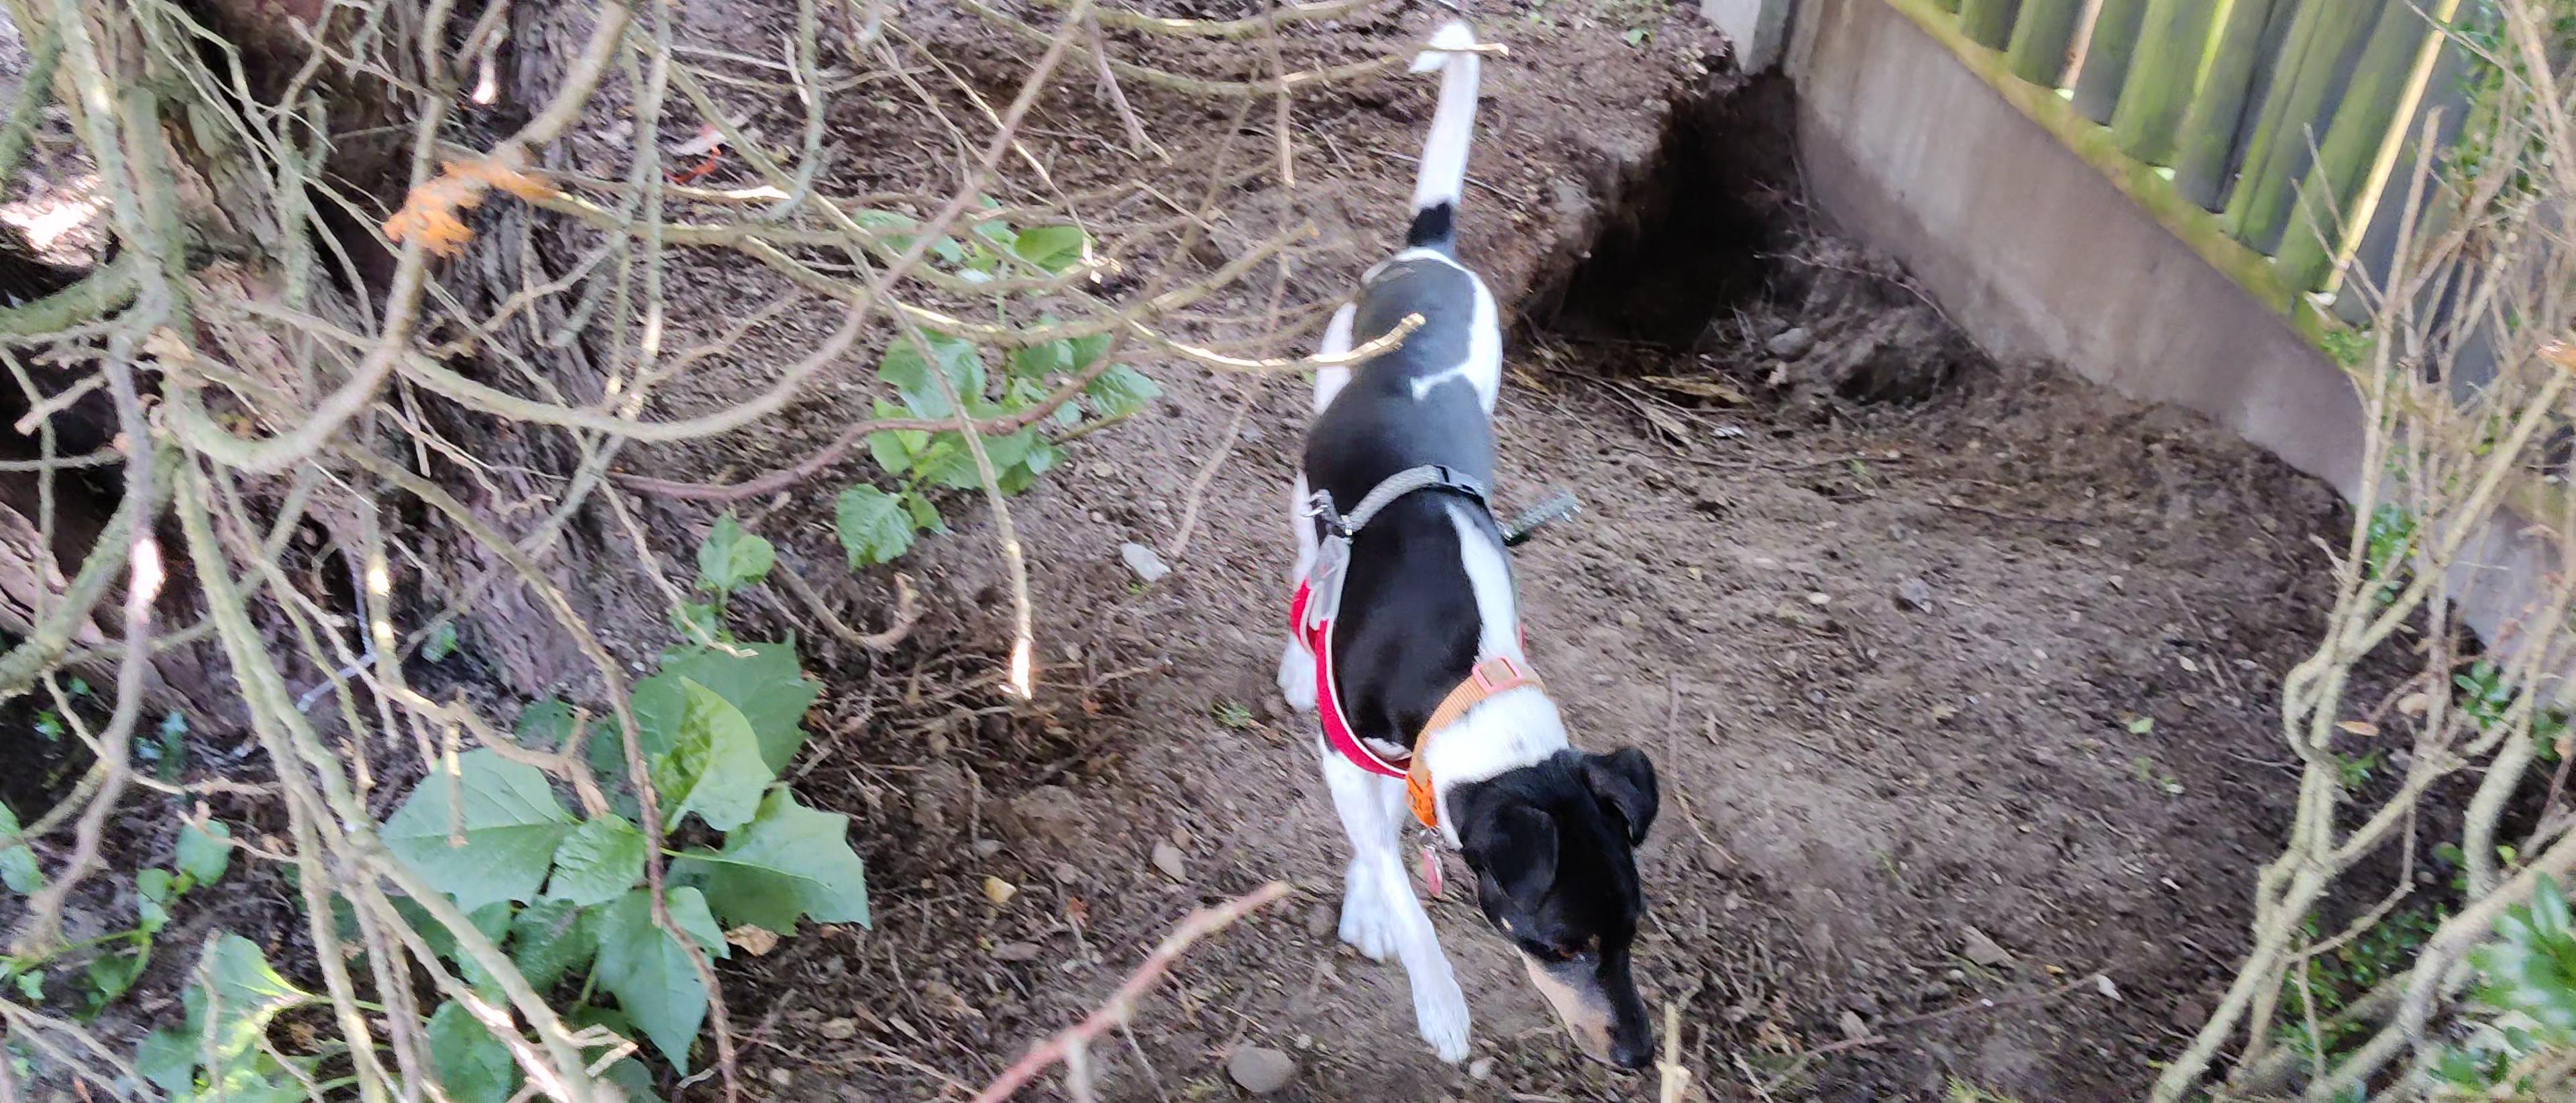Dog: (1263, 15, 1684, 1085)
